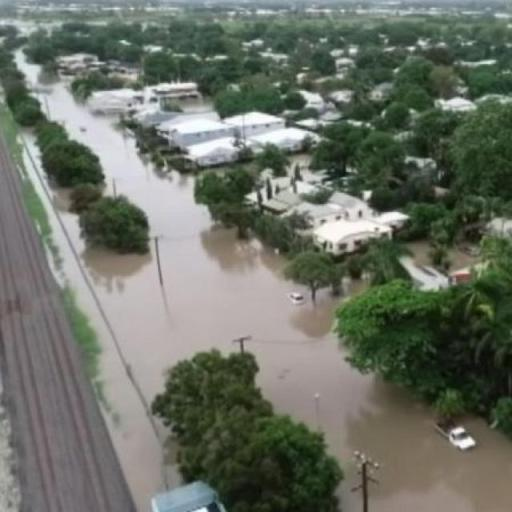flood: (16, 52, 512, 512)
house: (319, 220, 394, 252), (226, 109, 285, 140), (172, 116, 232, 144), (330, 190, 372, 222)
